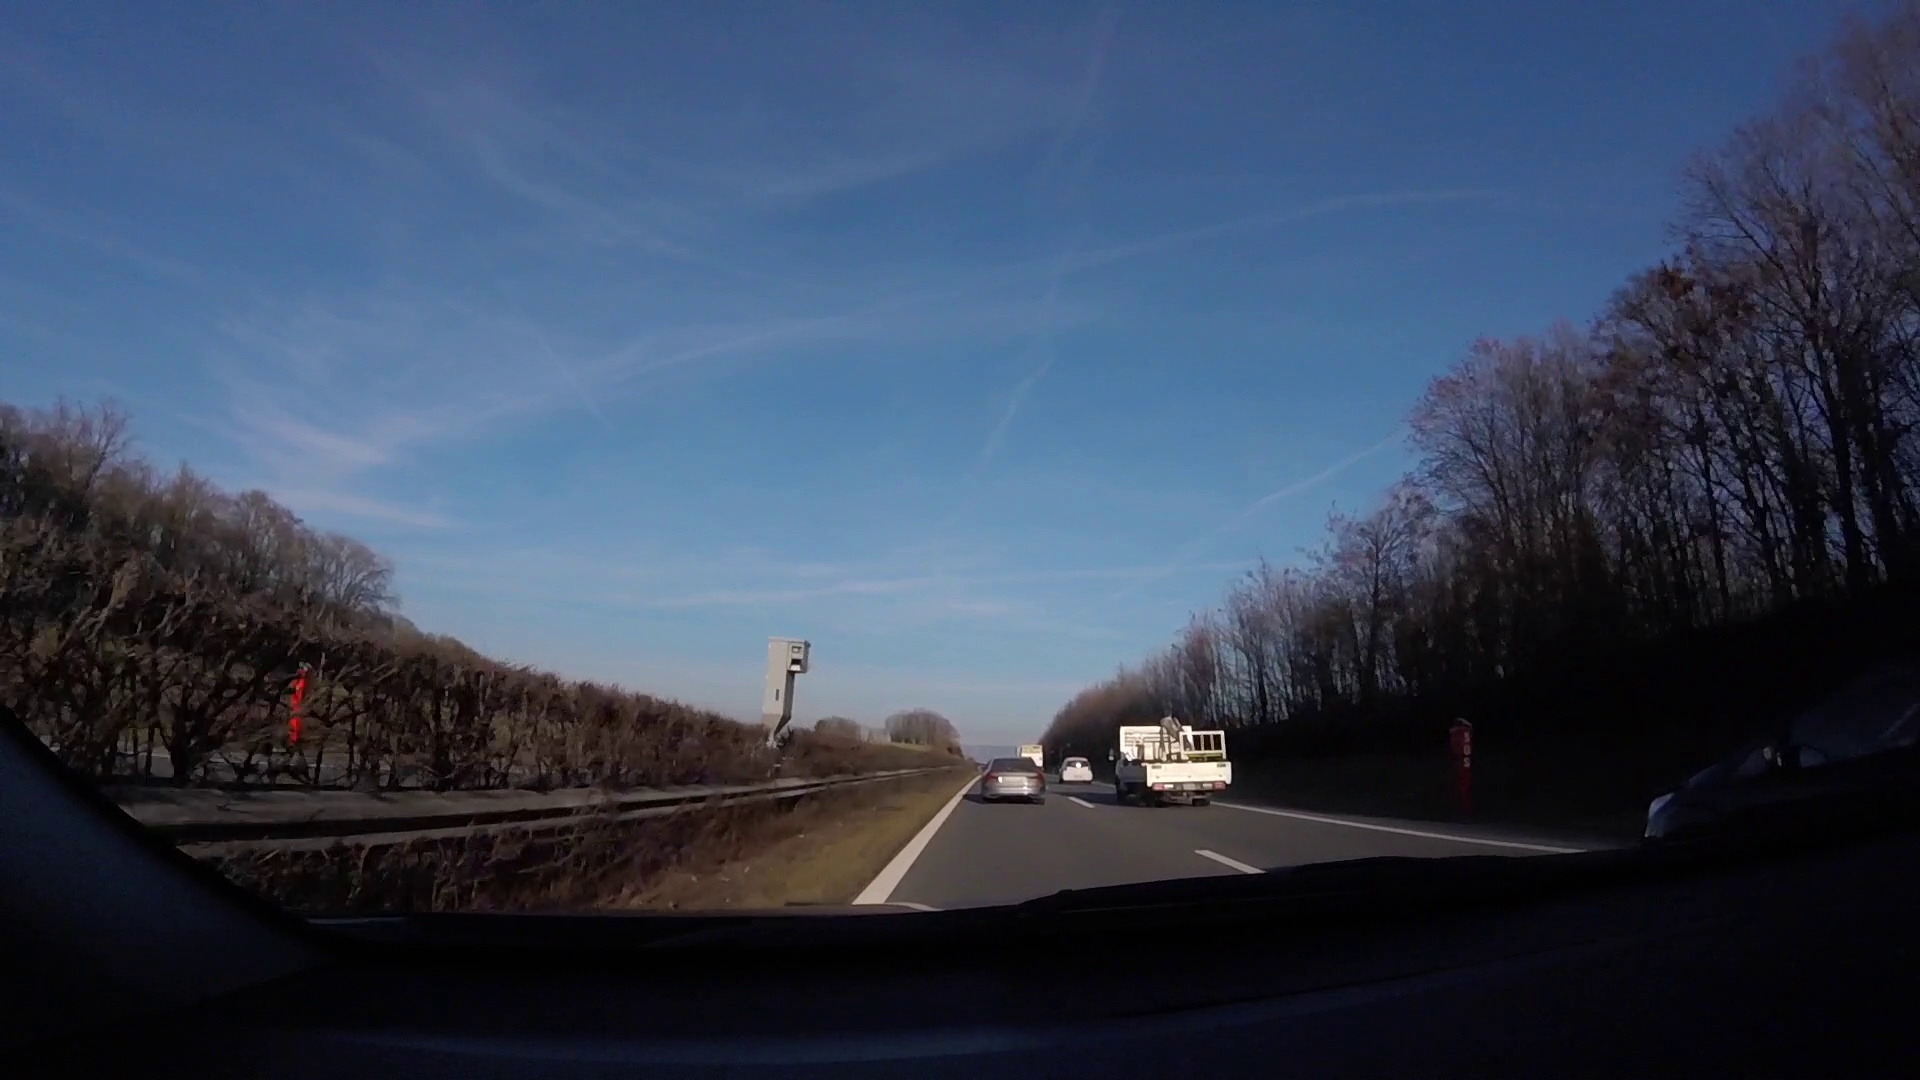radar: (760, 633, 816, 742)
